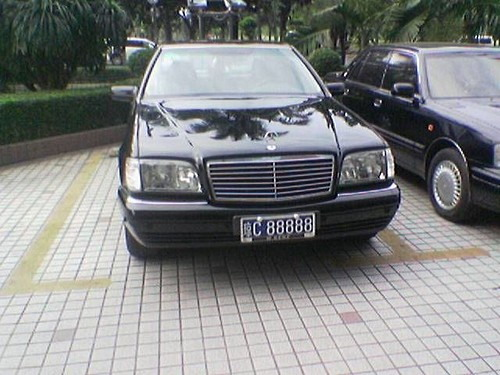plate_number: (238, 215, 316, 239)
